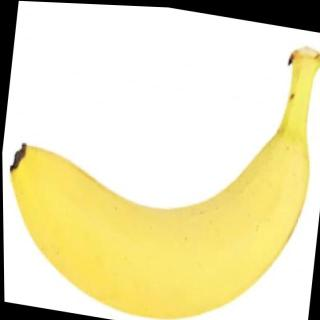banana: (2, 92, 316, 320)
